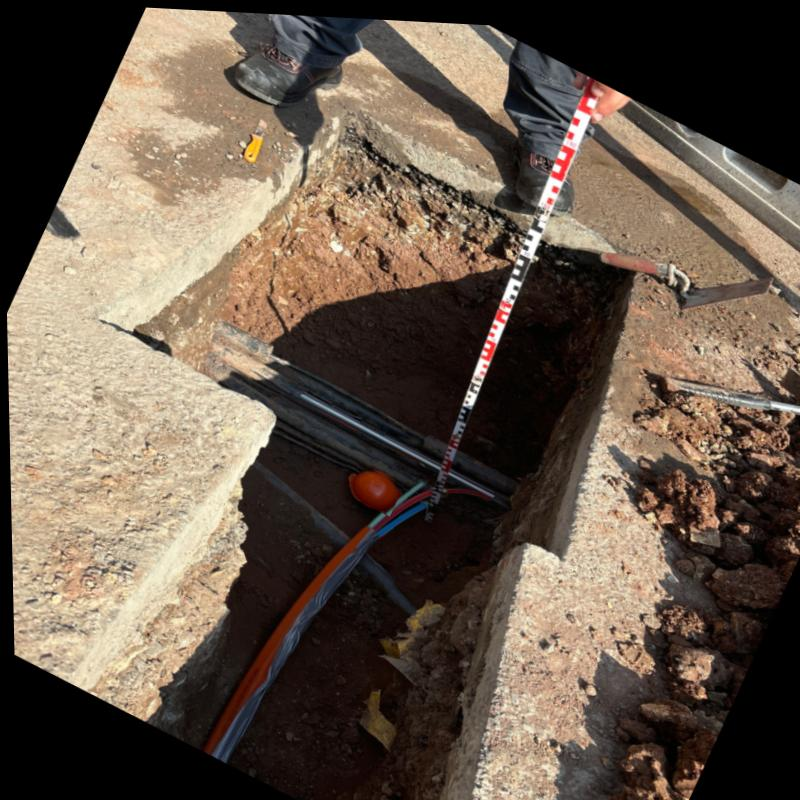Kugelmarker: (348, 469, 396, 507)
Orang-Speednetrohrchen: (202, 477, 427, 760)
